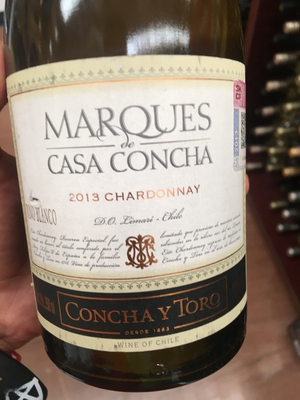marques de casa concha chardonnay: (7, 21, 257, 384)
